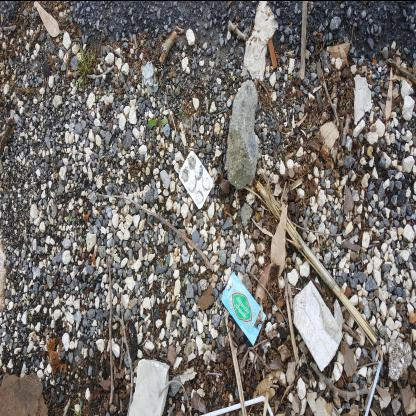kagit: (74, 223, 147, 267)
plastik: (210, 180, 268, 214)
